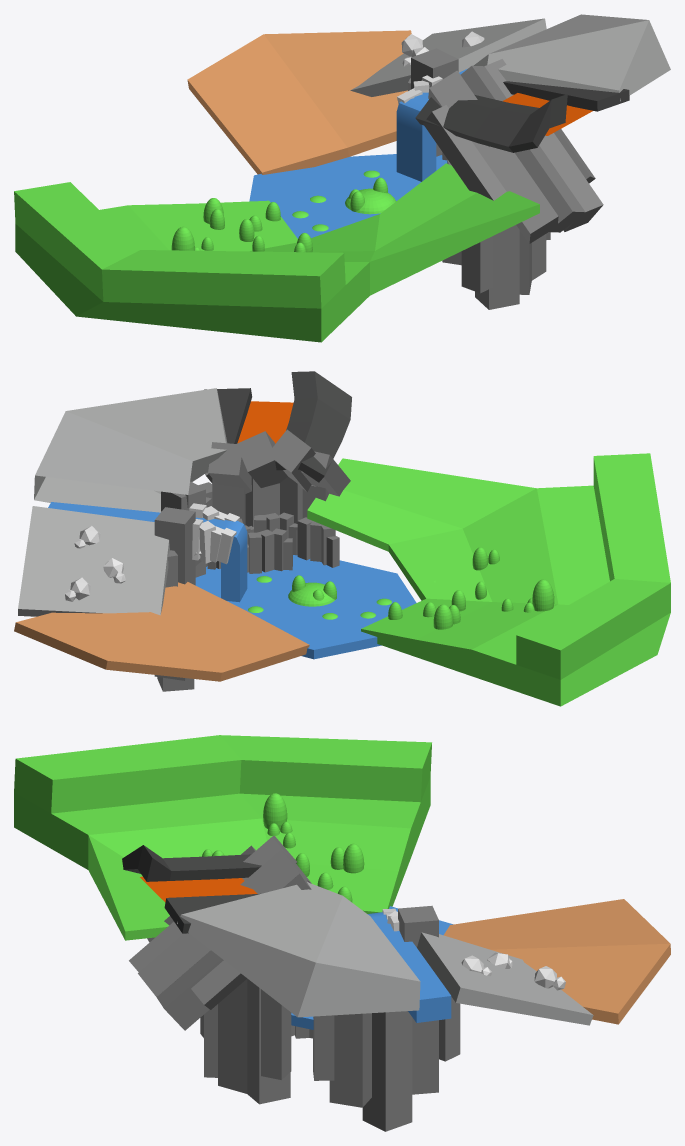
The picture shows the model from 3 angles, top to bottom: view 1: azimuth 30°, elevation 25°; view 2: azimuth 150°, elevation 25°; view 3: azimuth 270°, elevation 25°; orthographic projection. The views are drawn at different scales.
Visible parts, largest first — view 1: block, Cube.002, Cube.003, Cube.021, Cube.001, Cube.004, Cube.010, Cube.005, Cube.011, Plane, Sphere; view 2: block, Cube.003, Cube.002, Cube.001, Cube.004, Cube.021, Cube.011, Cube.010, Cube.005, Cube.007, Cube.009, Plane (+3 smaller); view 3: block, Cube.003, Cube.002, Cube.011, Cube.021, Cube.010, Cube.004, Cube.005, Plane, Sphere.014.
Part boxes in pixels (x1,y1,x2,y2): block: [14, 163, 539, 342]; Cube.002: [187, 30, 411, 174]; Cube.003: [350, 14, 670, 101]; Cube.021: [423, 59, 603, 243]; Cube.001: [249, 154, 447, 238]; Cube.004: [415, 81, 629, 152]; Cube.010: [461, 146, 550, 309]; Cube.005: [396, 68, 467, 181]; Cube.011: [408, 48, 461, 265]; Plane: [503, 93, 592, 135]; Sphere: [345, 188, 396, 214]; block: [307, 453, 670, 706]; Cube.003: [18, 388, 227, 616]; Cube.002: [14, 582, 309, 681]; Cube.001: [195, 555, 416, 659]; Cube.004: [204, 371, 351, 482]; Cube.021: [205, 429, 350, 496]; Cube.011: [154, 481, 211, 691]; Cube.010: [198, 476, 328, 526]; Cube.005: [48, 502, 247, 602]; Cube.007: [247, 528, 292, 573]; Cube.009: [296, 517, 339, 567]; Plane: [237, 401, 293, 443]; block: [14, 735, 431, 940]; Cube.003: [177, 882, 593, 1025]; Cube.002: [444, 899, 670, 1024]; Cube.011: [313, 905, 460, 1131]; Cube.021: [129, 836, 311, 1030]; Cube.010: [200, 978, 291, 1104]; Cube.004: [122, 845, 261, 933]; Cube.005: [367, 912, 451, 1022]; Plane: [140, 876, 257, 902]; Sphere.014: [263, 793, 287, 829].
Size of the model in its own units: 1234 by 485 by 1103.
